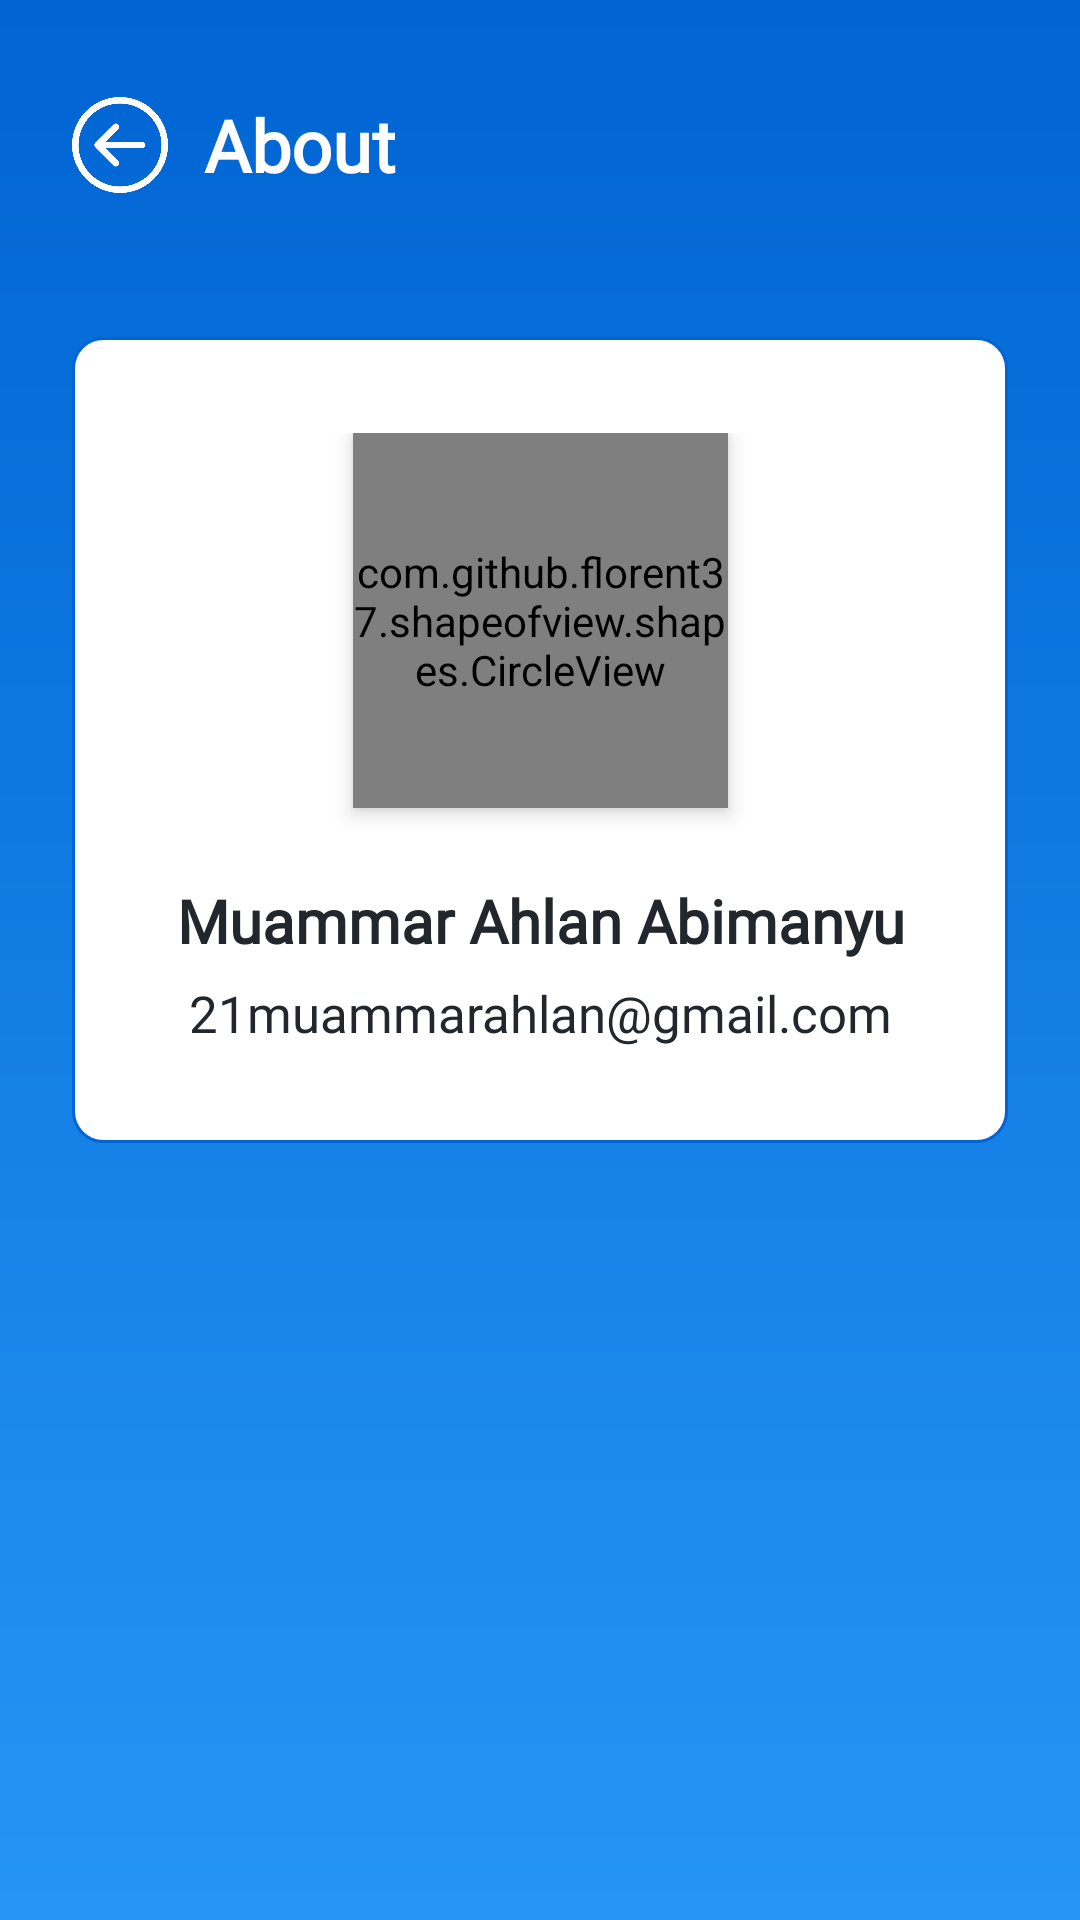

Icon bounding boxes for this 1080px×1920px phone screenshot, format bbox(x1, y1, x2, y2):
back: bbox(72, 97, 168, 193)
